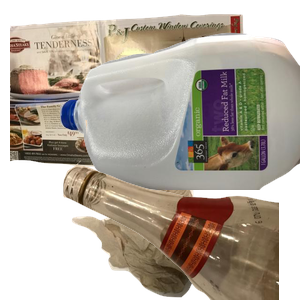glass: (60, 120, 300, 300)
paper: (10, 11, 250, 180)
plastic: (60, 30, 300, 210)
trash: (66, 137, 263, 300)
